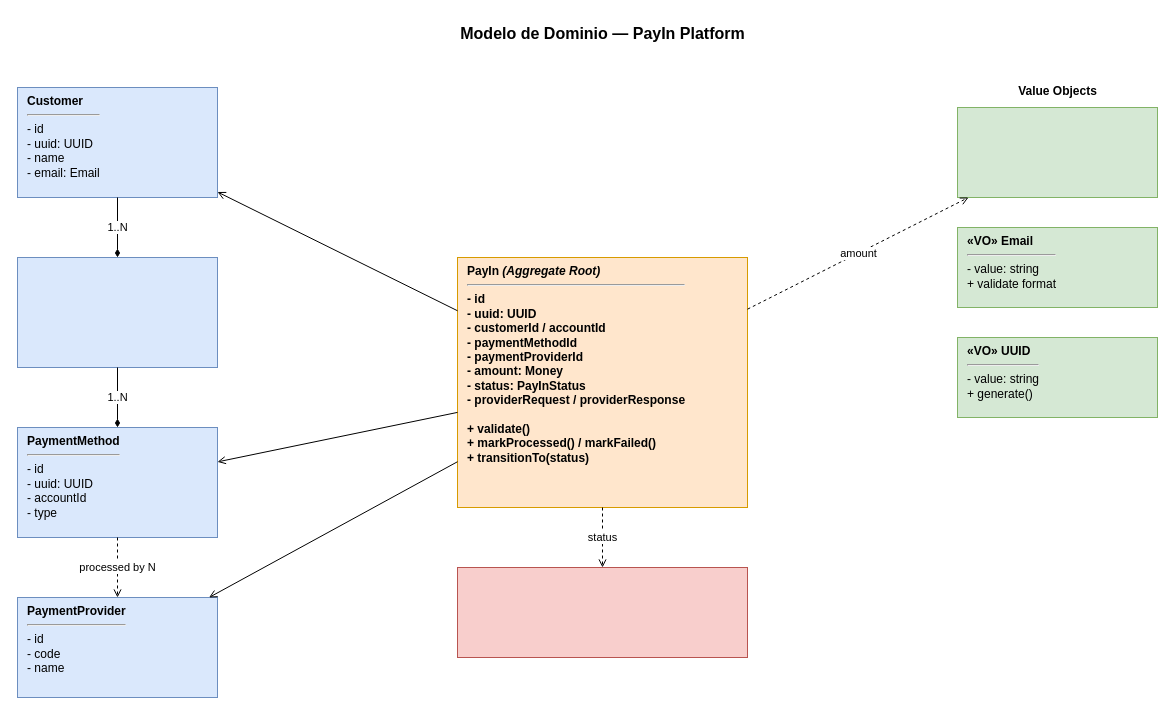
The diagram is 1175 pixels wide and 715 high, and some of its shapes have lost their labels. The centre of each missing label's shape, as x and y in pixels:
"Account - id - uuid: UUID - customerId - accountNumber" goes at point 117,312.
"PayInStatus CREATED → VALIDATED → PROCESSED └─→ FAILED (terminal)" goes at point 602,612.
"«VO» Money - amount: int (minor) - currency: string + equals()" goes at point 1057,152.
